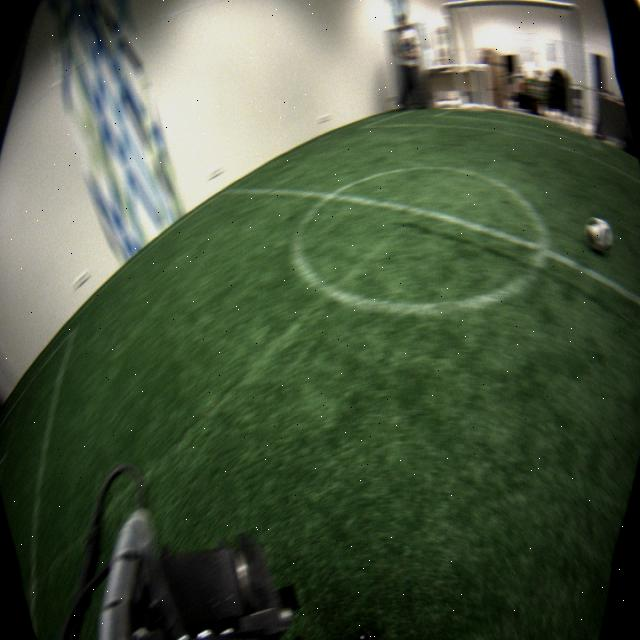ball: (584, 218, 614, 258)
